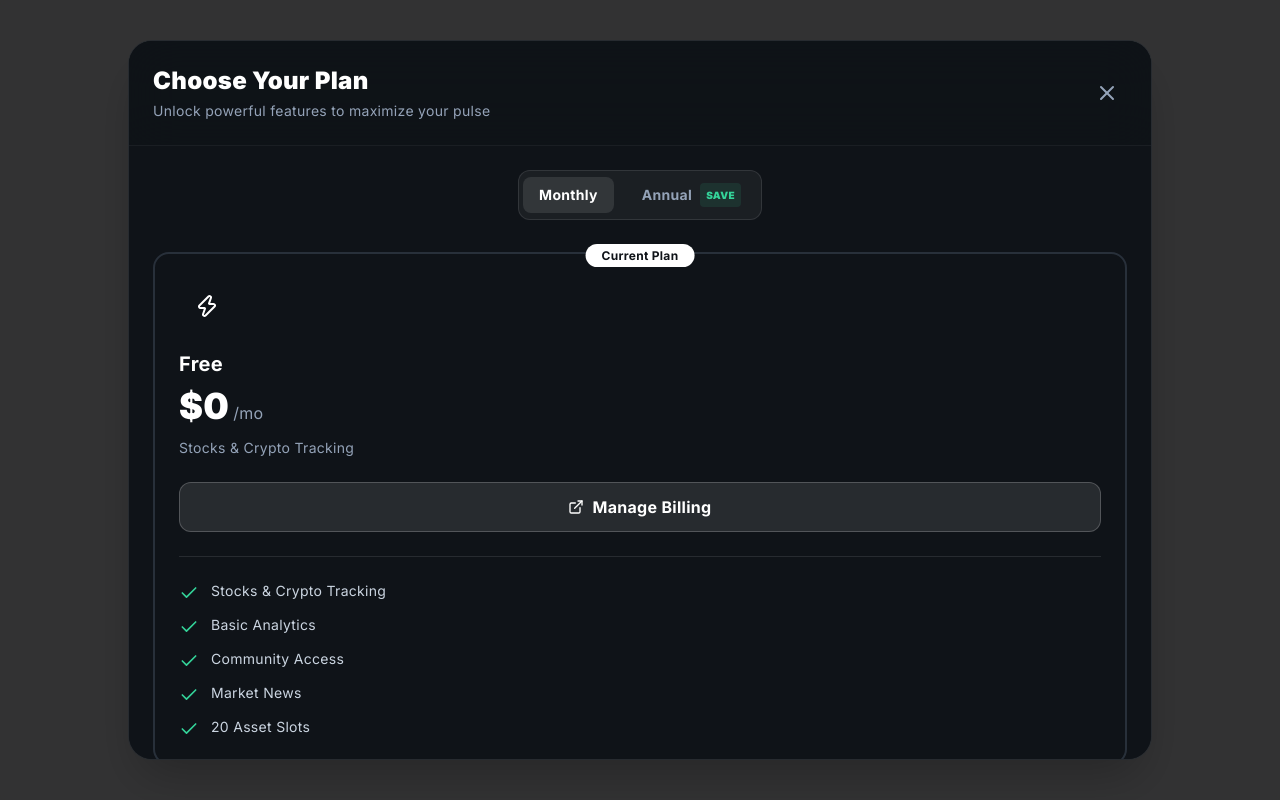
it: PricingModal › shows annual savings badges when annual billing is selected
Click the button "Annual SAVE" at (691, 195), box [626,175,757,215]
(page scrolled)
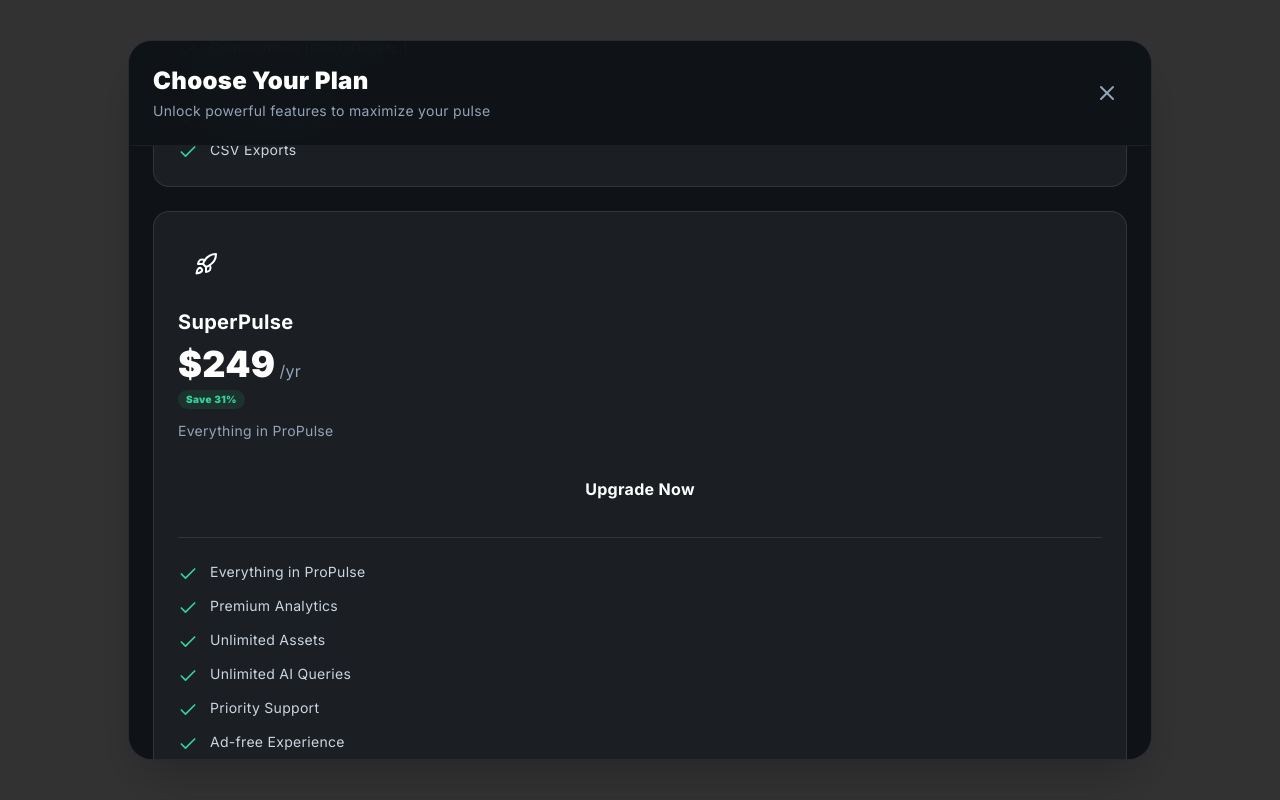
Expected: the text "Save 31%" is shown, [178,390,245,409]
